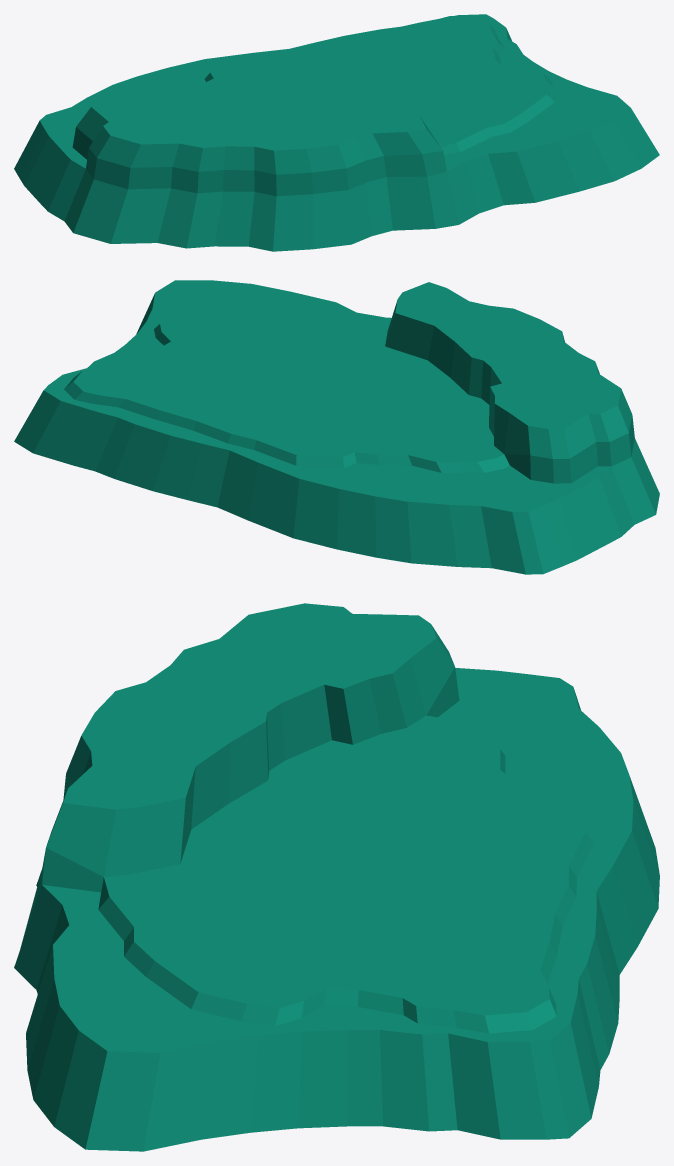
The model's file is spawn.glb.
3 views of the same model, one above another, from view 1: azimuth 30°, elevation 25°; view 2: azimuth 150°, elevation 25°; view 3: azimuth 270°, elevation 25° (orthographic). The views are drawn at different scales.
Parts seen in each view (by area): view 1: land; view 2: land; view 3: land.
Part boxes in pixels (x1,y1,x2,y2): land: [14, 14, 659, 251]; land: [14, 280, 659, 574]; land: [14, 603, 659, 1151].
Size of what is drawn, in the model's own units: 34.97 by 5.75 by 22.35.
